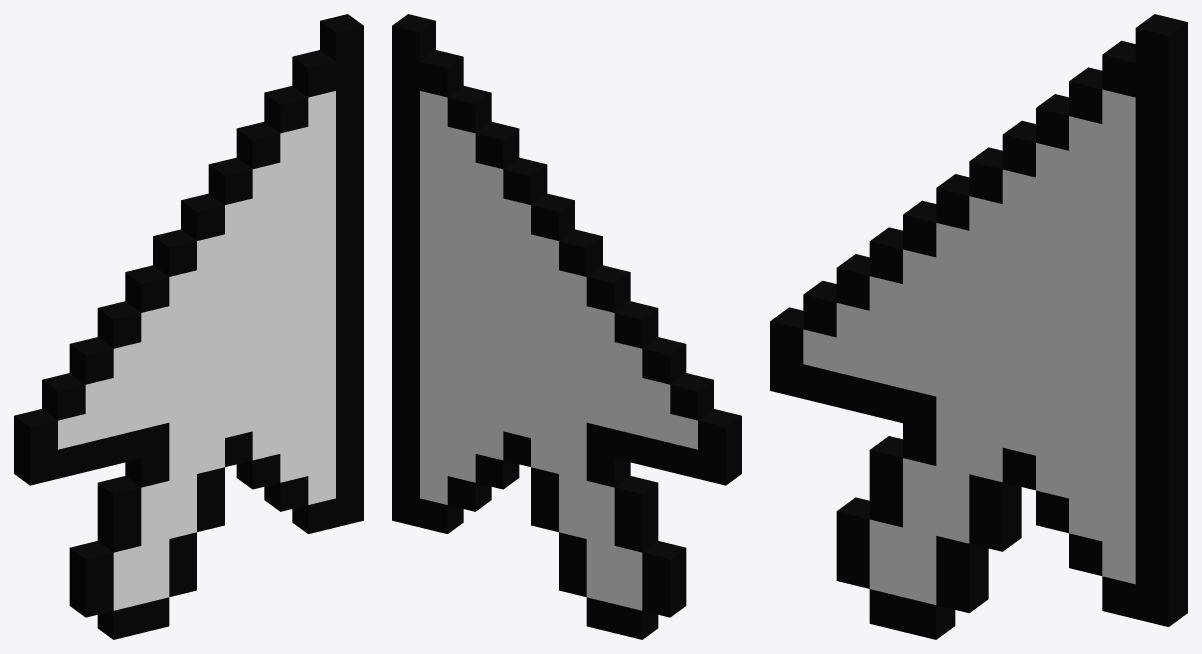
Rendered from mouse_arrow.glb.
3 views of the same model, side by side, from view 1: azimuth 30°, elevation 25°; view 2: azimuth 150°, elevation 25°; view 3: azimuth 330°, elevation 25° (orthographic). The views are drawn at different scales.
Parts seen in each view (by area): view 1: cube_6, cube_23, cube_24, cube_25, cube_29, cube_27, cube_26, cube_16, cube_30, cube_28, cube_18, cube_19 (+23 smaller); view 2: cube_6, cube_23, cube_24, cube_25, cube_29, cube_27, cube_26, cube_16, cube_30, cube_28, cube_18, cube_19 (+23 smaller); view 3: cube_6, cube_23, cube_24, cube_25, cube_29, cube_27, cube_26, cube_30, cube_28, cube_16, cube_31, cube_22 (+23 smaller).
Part boxes in pixels (x1,y1,x2,y2): cube_6: (320,14,363,498); cube_23: (308,91,335,504); cube_24: (280,127,308,482); cube_25: (252,162,280,460); cube_29: (169,270,196,538); cube_27: (197,234,224,473); cube_26: (225,198,252,437); cube_16: (14,429,141,485); cube_30: (141,306,169,429); cube_28: (141,481,169,603); cube_18: (97,476,141,552); cube_19: (69,541,113,617); cube_6: (392,14,435,498); cube_23: (420,91,447,504); cube_24: (447,127,475,482); cube_25: (475,162,503,460); cube_29: (559,270,586,538); cube_27: (531,234,558,473); cube_26: (503,198,530,437); cube_16: (614,429,741,485); cube_30: (586,306,614,429); cube_28: (586,481,614,603); cube_18: (614,476,658,552); cube_19: (642,541,686,617); cube_6: (1135,14,1187,592); cube_23: (1102,89,1135,584); cube_24: (1069,116,1102,541); cube_25: (1036,143,1068,498); cube_29: (936,223,969,543); cube_27: (969,196,1002,482); cube_26: (1002,169,1035,455); cube_30: (903,249,936,396); cube_28: (903,458,936,604); cube_16: (770,356,902,423); cube_31: (869,276,902,388); cube_22: (969,474,1021,551).
Bounding box in the file's own units: 0.75 × 1.19 × 0.0625.
Materials: 2 (2 with a texture image).
